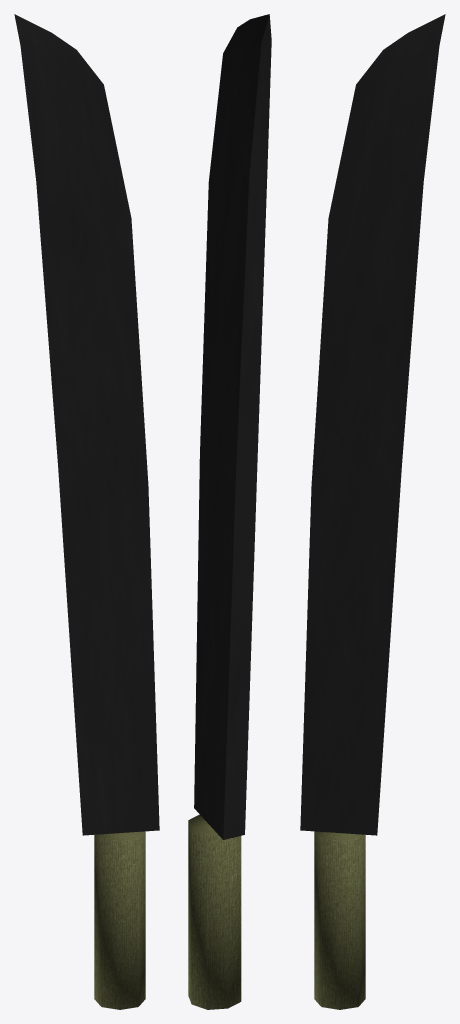
File: Machete.fbx
The picture shows the model from 3 angles, left to right: view 1: azimuth 90°, elevation 25°; view 2: azimuth 210°, elevation 25°; view 3: azimuth 270°, elevation 25°; orthographic projection. The views are drawn at different scales.
Visible parts, largest first — view 1: Machete; view 2: Machete; view 3: Machete.
Part boxes in pixels (left/top/right/bottom): Machete: left=14, top=14, right=159, bottom=1009; Machete: left=188, top=14, right=271, bottom=1009; Machete: left=300, top=14, right=445, bottom=1009.
Bounding box in the file's own units: 5.5 × 117 × 15.61.
